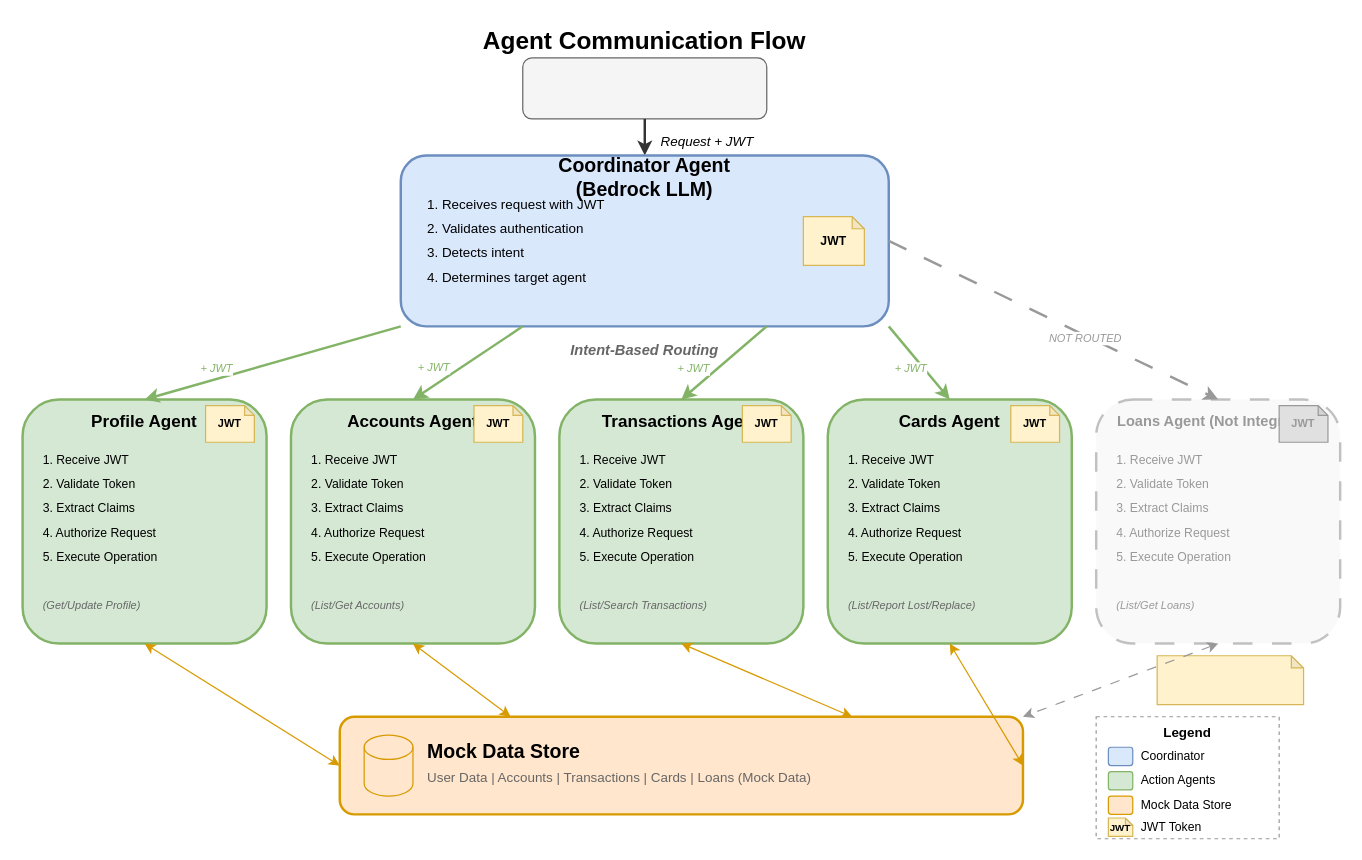
This 1362x860 diagram has some shape labels left out. The shapes that lost their labels are listed below. From the top down, each one's centre as x and y in pixels, then its label:
At (x=644, y=88): "Client Request".
At (x=1230, y=680): "Agent exists but not yet routed by Coordinator".
